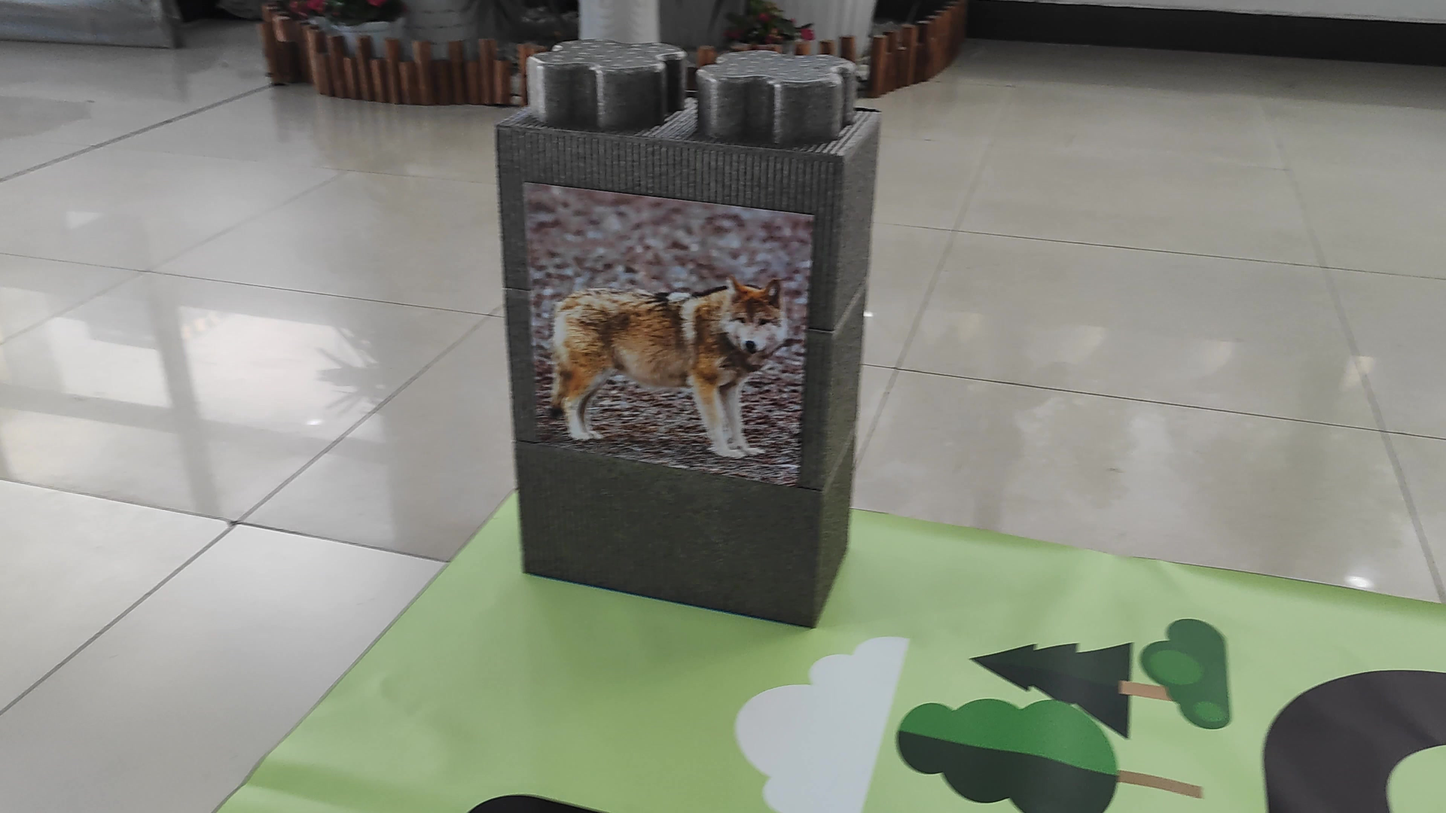wolf: (522, 242, 787, 475)
